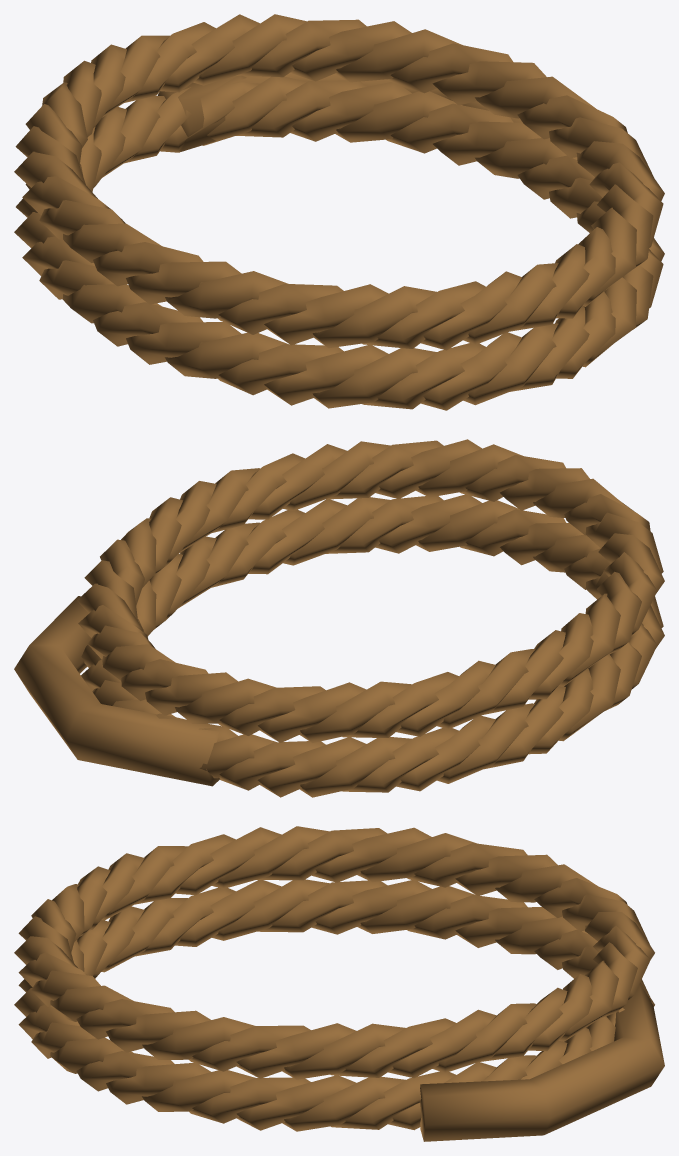
Rendered from item_rope.glb.
The picture shows the model from 3 angles, top to bottom: view 1: azimuth 30°, elevation 25°; view 2: azimuth 150°, elevation 25°; view 3: azimuth 270°, elevation 25°; orthographic projection. The views are drawn at different scales.
Visible parts, largest first — view 1: props_rope; view 2: props_rope; view 3: props_rope.
Part boxes in pixels (x1,y1,x2,y2): props_rope: (14,14,664,410); props_rope: (14,439,664,797); props_rope: (14,826,664,1141).
Size of the model in its own units: 0.8187 by 0.177 by 0.9664.
